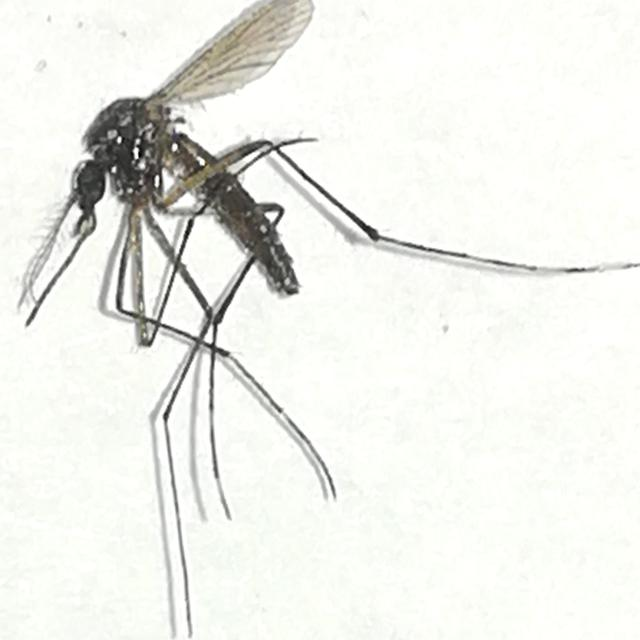albopictus: (11, 44, 388, 616)
